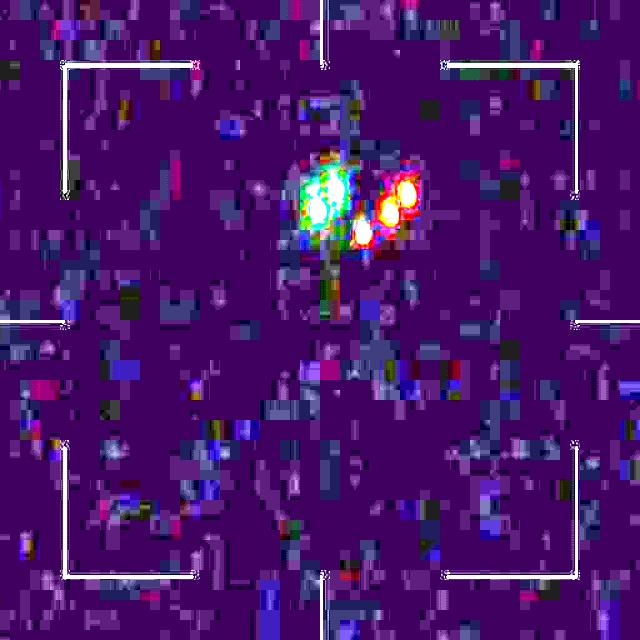bird: (306, 170, 415, 251)
